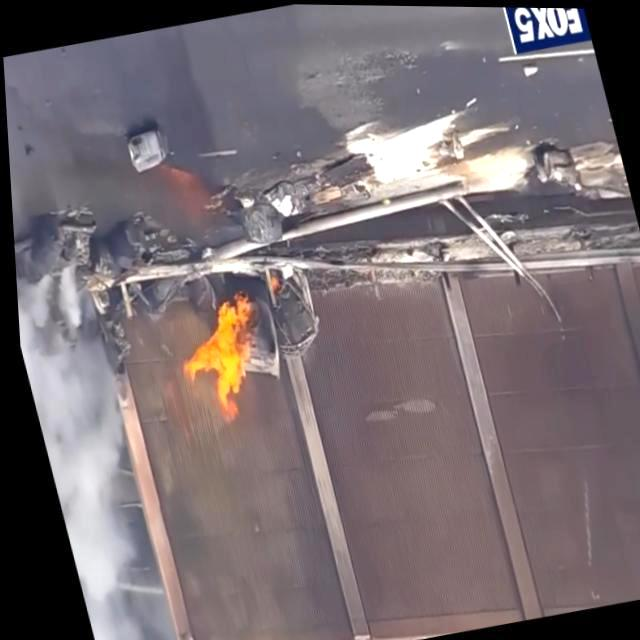fire: (164, 291, 272, 429)
